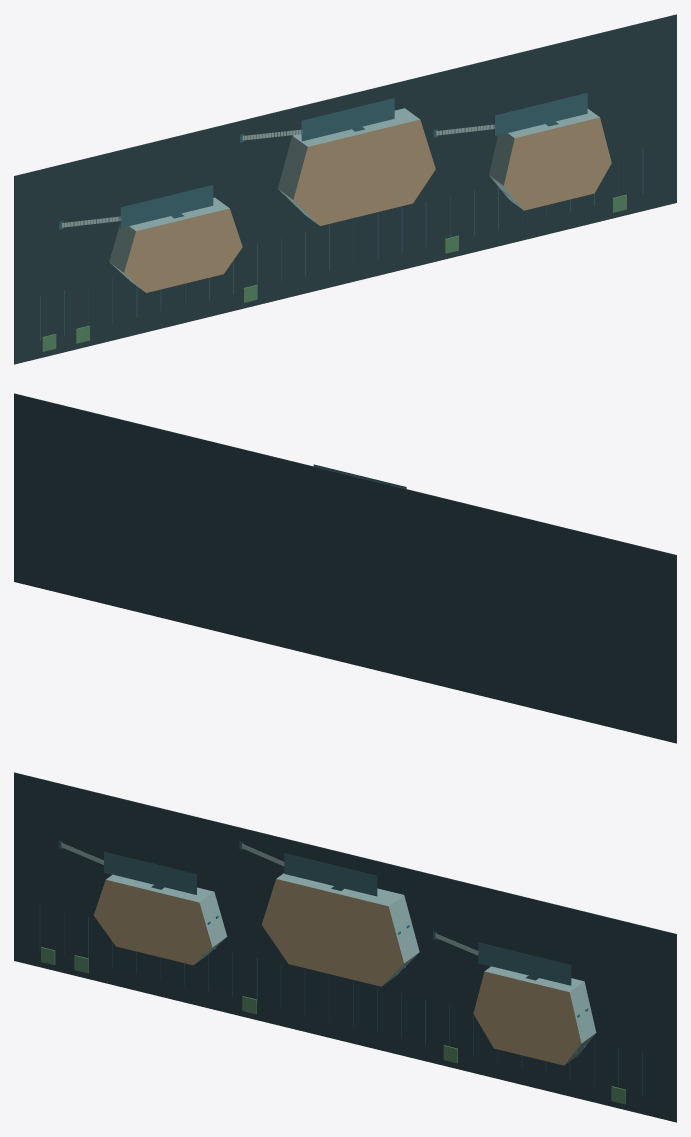
The model's file is a83_b3_integrated_civic_study.obj.
The picture shows the model from 3 angles, top to bottom: view 1: azimuth 30°, elevation 25°; view 2: azimuth 150°, elevation 25°; view 3: azimuth 330°, elevation 25°; orthographic projection.
Parts seen in each view (by area): view 1: continuous_civic_ground, C_continuous_upper_roof, E_continuous_upper_roof, W_continuous_upper_roof, W_upper_gallery, E_upper_gallery, C_upper_gallery, C_upper_facade_true_open, E_upper_facade_true_open, W_upper_facade_true_open, C_lower_facade_true_open, E_lower_facade_true_open; view 2: continuous_civic_ground; view 3: continuous_civic_ground, C_continuous_upper_roof, E_continuous_upper_roof, W_continuous_upper_roof, E_upper_gallery, C_upper_gallery, W_upper_gallery, C_upper_facade_true_open, E_upper_facade_true_open, W_upper_facade_true_open, C_lower_facade_true_open, E_lower_facade_true_open (+1 smaller).
Boxes of the visible parts, box(x1,y1,x2,y2) form: continuous_civic_ground: box(14, 14, 676, 364); C_continuous_upper_roof: box(293, 119, 435, 225); E_continuous_upper_roof: box(504, 117, 611, 210); W_continuous_upper_roof: box(124, 208, 242, 292); W_upper_gallery: box(120, 185, 213, 228); E_upper_gallery: box(494, 93, 587, 136); C_upper_gallery: box(301, 98, 394, 141); C_upper_facade_true_open: box(286, 114, 419, 225); E_upper_facade_true_open: box(497, 112, 599, 209); W_upper_facade_true_open: box(117, 203, 229, 291); C_lower_facade_true_open: box(278, 108, 412, 220); E_lower_facade_true_open: box(489, 108, 592, 204); continuous_civic_ground: box(14, 393, 676, 743); continuous_civic_ground: box(14, 772, 676, 1122); C_continuous_upper_roof: box(261, 879, 403, 986); E_continuous_upper_roof: box(473, 971, 581, 1065); W_continuous_upper_roof: box(93, 880, 212, 965); E_upper_gallery: box(478, 942, 571, 985); C_upper_gallery: box(284, 853, 377, 896); W_upper_gallery: box(104, 852, 196, 894); C_upper_facade_true_open: box(276, 873, 411, 985); E_upper_facade_true_open: box(484, 966, 588, 1064); W_upper_facade_true_open: box(106, 874, 219, 964); C_lower_facade_true_open: box(283, 873, 419, 980); E_lower_facade_true_open: box(571, 978, 596, 1059).
Size of the model in its own units: 770 by 209 by 32.38.
